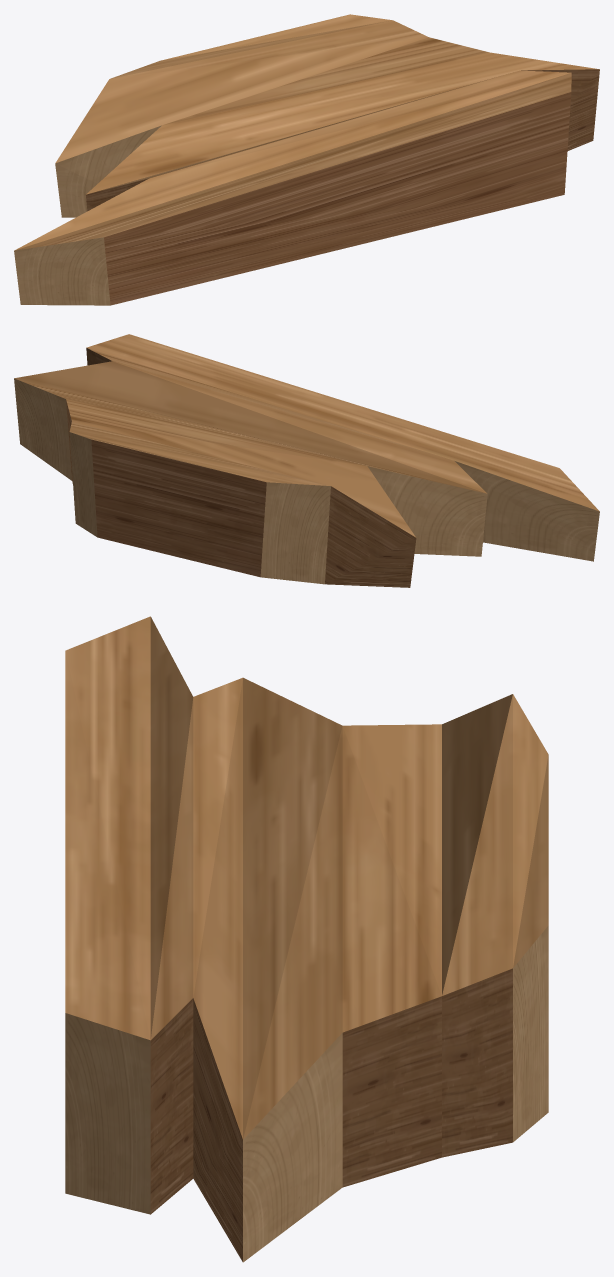
File: debris_plank_double.glb
The picture shows the model from 3 angles, top to bottom: view 1: azimuth 30°, elevation 25°; view 2: azimuth 150°, elevation 25°; view 3: azimuth 270°, elevation 25°; orthographic projection. The views are drawn at different scales.
Parts seen in each view (by area): view 1: Double-Splinter Plank; view 2: Double-Splinter Plank; view 3: Double-Splinter Plank.
Part boxes in pixels (bbox=[...]): Double-Splinter Plank: bbox=[14, 14, 599, 305]; Double-Splinter Plank: bbox=[14, 334, 599, 587]; Double-Splinter Plank: bbox=[65, 616, 548, 1262].
Bounding box in the file's own units: 0.183 × 0.031 × 0.068.
Materials: 1 (1 with a texture image).
